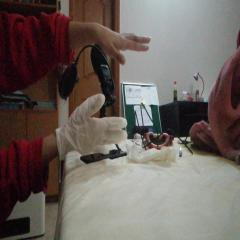gloved: (57, 95, 128, 155)
not-gloved: (83, 22, 151, 68)
